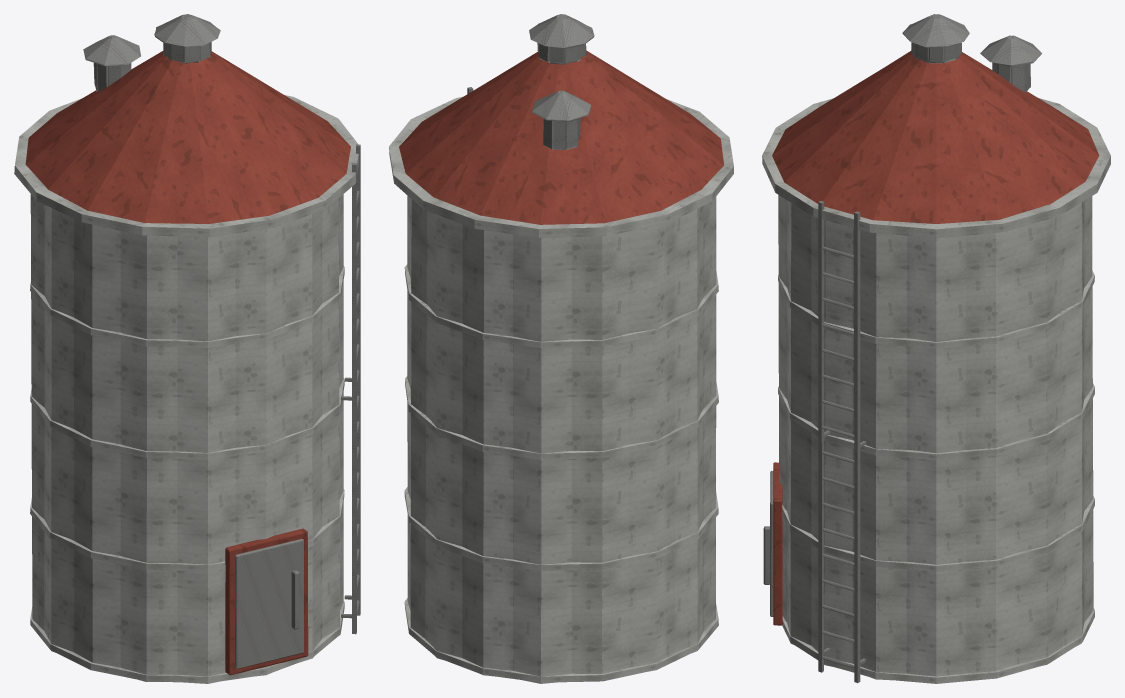
File: silo_small.glb
3 renders of one model, left to right at view 1: azimuth 30°, elevation 25°; view 2: azimuth 150°, elevation 25°; view 3: azimuth 270°, elevation 25°, orthographic.
Visible parts, largest first — view 1: SiloSmall; view 2: SiloSmall; view 3: SiloSmall.
Boxes of the visible parts, x1,y1,x2,y2 form: SiloSmall: [14, 14, 360, 683]; SiloSmall: [389, 14, 733, 683]; SiloSmall: [762, 14, 1110, 683].
Size of the model in its own units: 3.11 by 5.93 by 3.11.
Materials: 3 (3 with a texture image).
